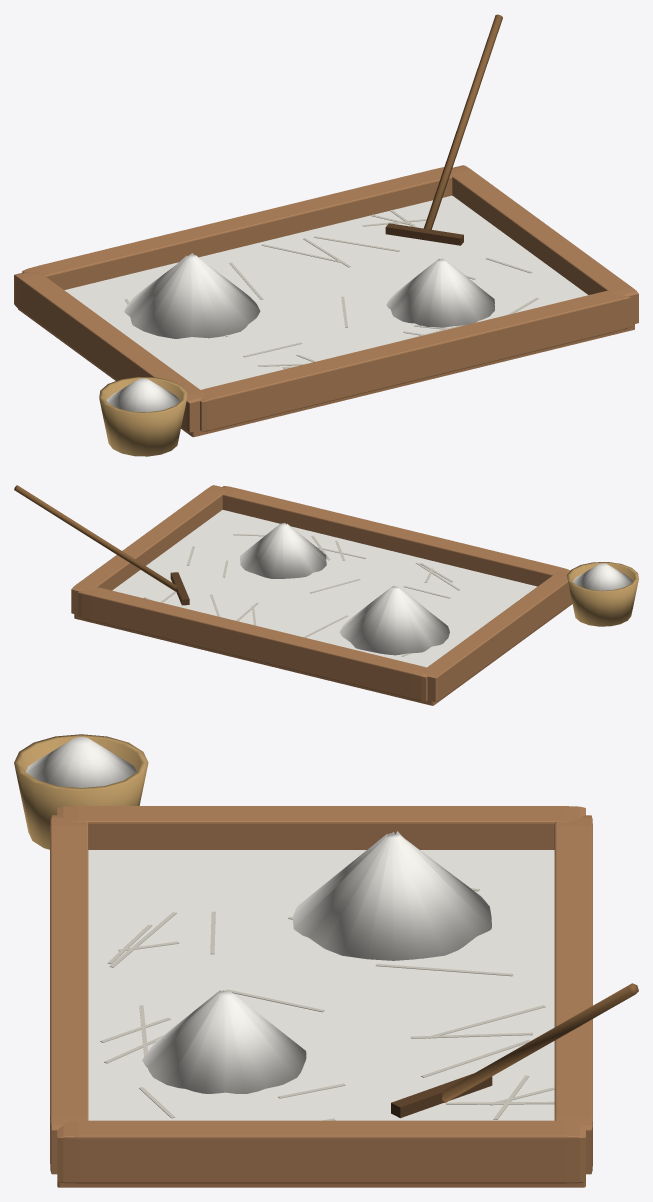
The model's file is salzpfanne.glb.
3 renders of one model, top to bottom at view 1: azimuth 30°, elevation 25°; view 2: azimuth 150°, elevation 25°; view 3: azimuth 270°, elevation 25°, orthographic. The views are drawn at different scales.
Visible parts, largest first — view 1: Cube; view 2: Cube; view 3: Cube.
Part boxes in pixels (x1,y1,x2,y2): Cube: (14, 14, 638, 456); Cube: (14, 485, 638, 705); Cube: (14, 734, 638, 1187).
Size of the model in its own units: 4.2 by 1.12 by 2.6.
